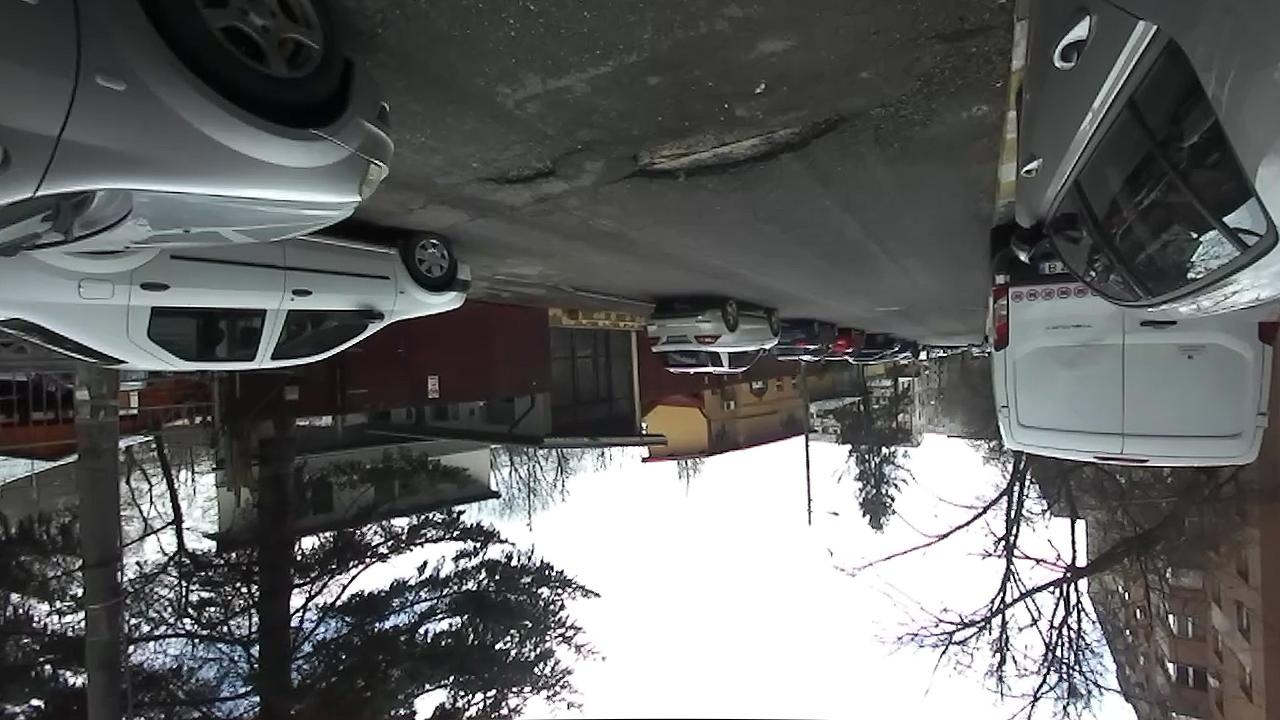pothole: (625, 103, 857, 183), (479, 143, 587, 191)
